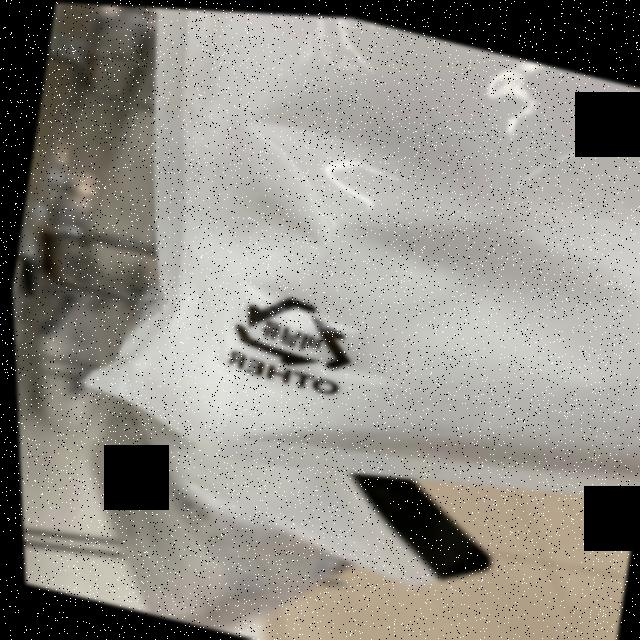Vinyl: (221, 278, 371, 379)
